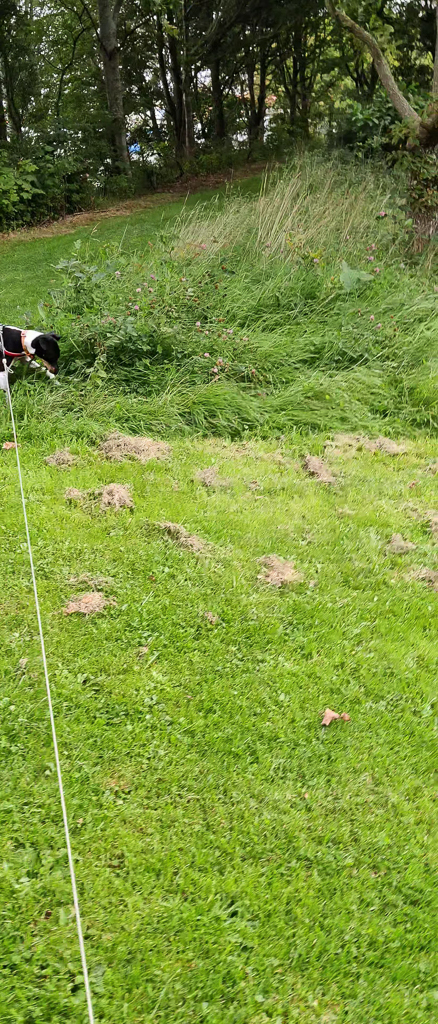Dog: (0, 315, 73, 391)
